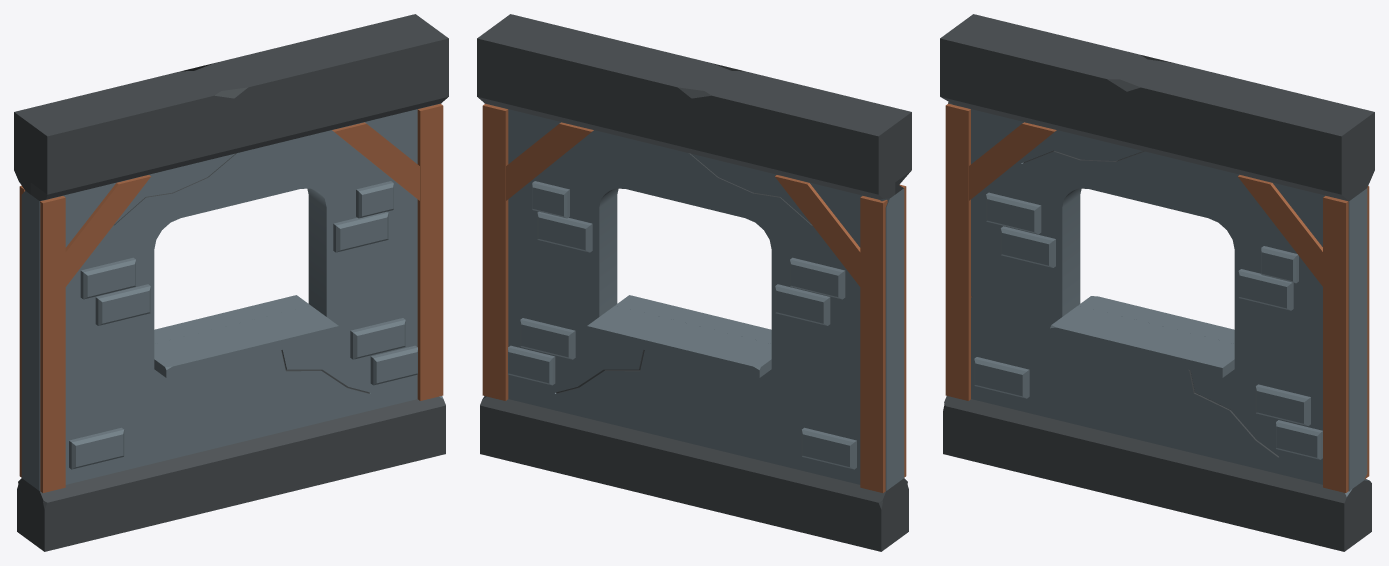
The model's file is wall_2_2.obj.
3 views of the same model, side by side, from view 1: azimuth 30°, elevation 25°; view 2: azimuth 150°, elevation 25°; view 3: azimuth 330°, elevation 25° (orthographic).
Parts seen in each view (by area): view 1: wall_2_2; view 2: wall_2_2; view 3: wall_2_2.
Part boxes in pixels (bbox=[...]): wall_2_2: bbox=[14, 14, 448, 551]; wall_2_2: bbox=[477, 14, 911, 551]; wall_2_2: bbox=[940, 14, 1374, 551].
Size of the model in its own units: 1.54 by 1.53 by 0.2809.
